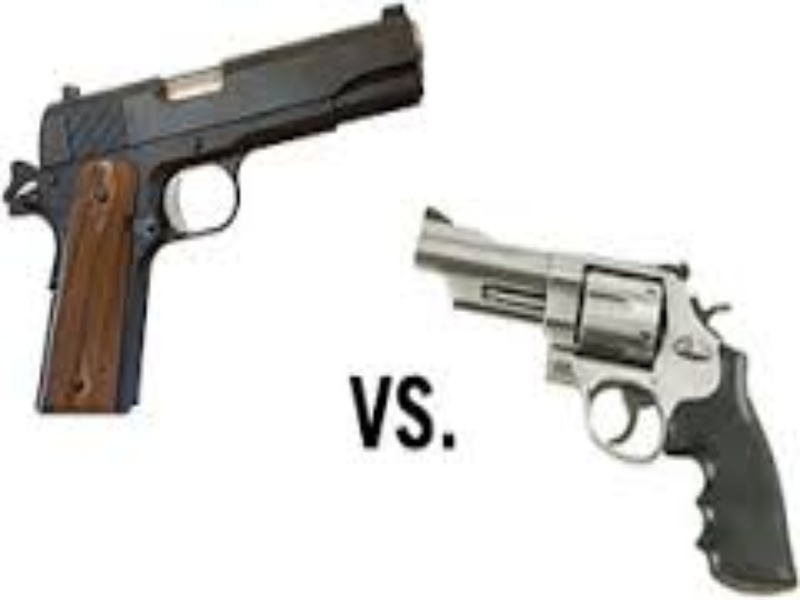gun: (14, 9, 436, 414), (402, 186, 795, 591)
